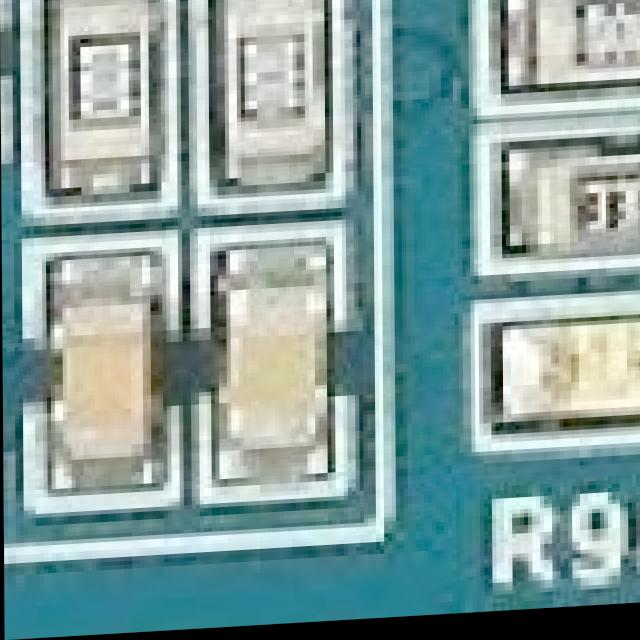LED: (522, 322, 640, 428)
capacitor: (210, 249, 331, 486), (62, 268, 167, 485), (0, 0, 5, 120)
resistor: (200, 0, 333, 171), (48, 0, 161, 190), (509, 138, 640, 260), (512, 0, 640, 100)
